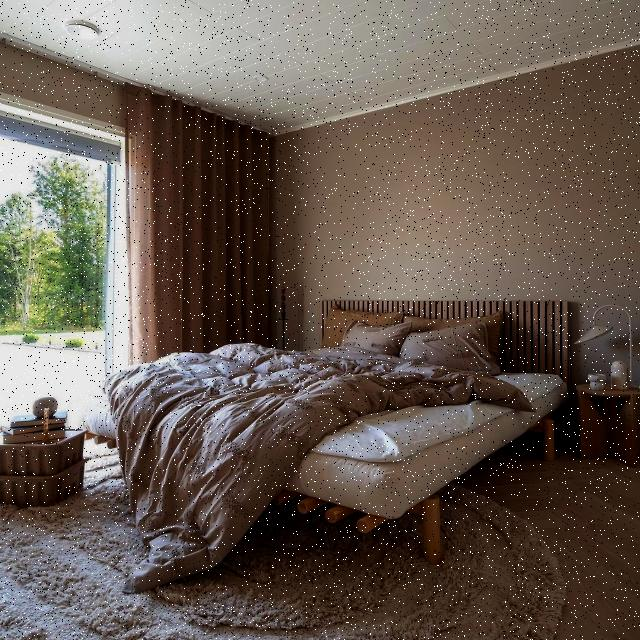bed: (111, 287, 572, 566)
